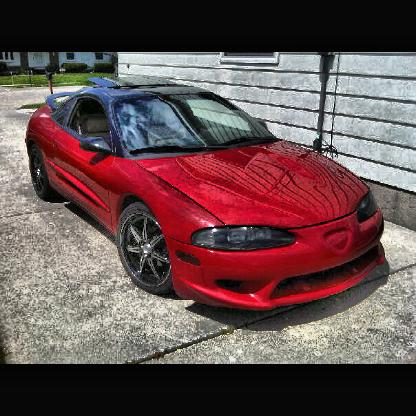Eagle Talon Hatchback 1998: (27, 75, 388, 311)
